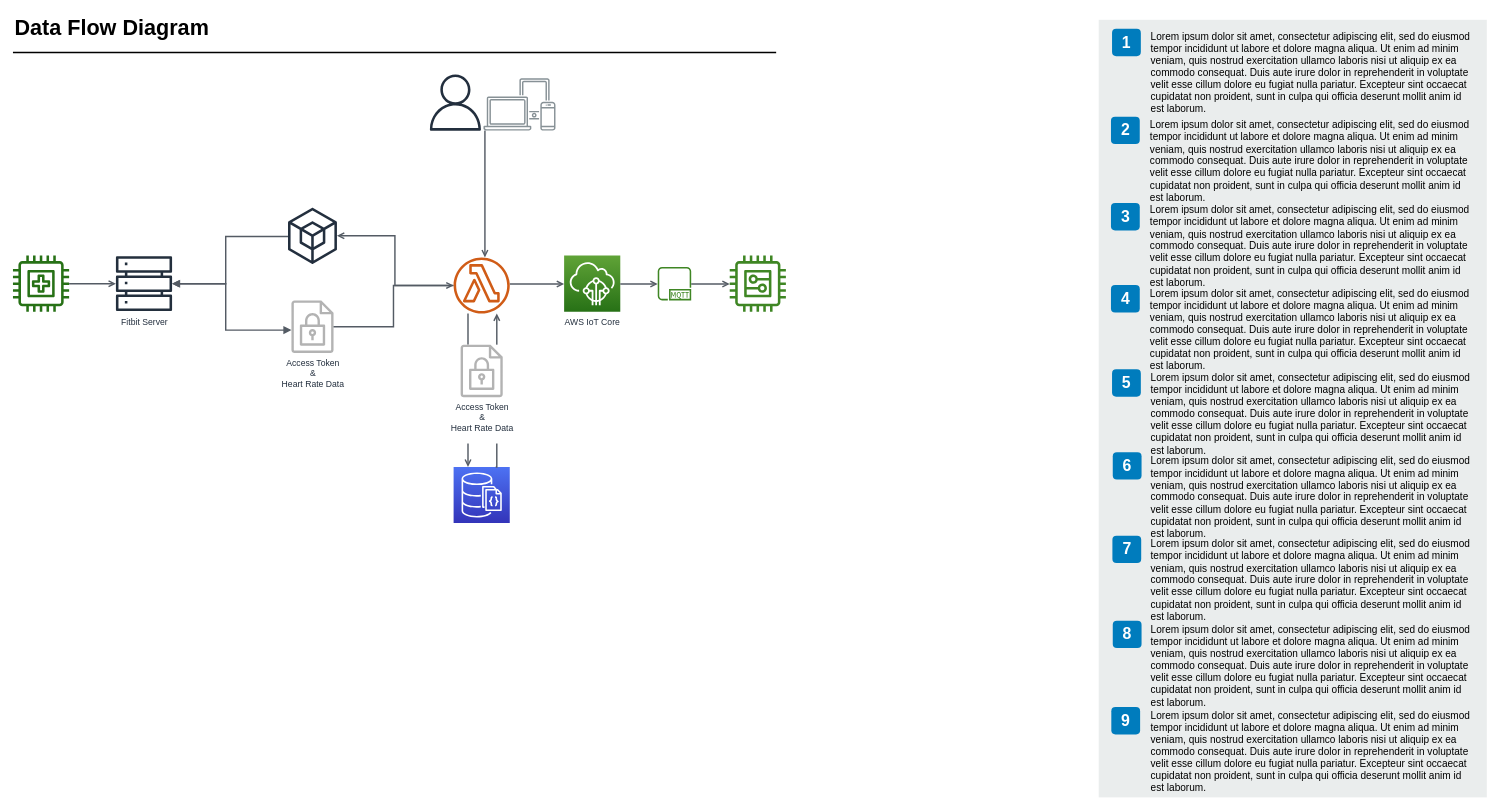
Some shapes in this 1499 by 810 pixel diagram are drawn without their labels. The shapes that lost their labels are listed below. From the top down, each one's centre as x and y in pixels, then its label:
pixel 455 102: User
pixel 519 104: Login
pixel 312 235: Fitbit API
pixel 41 283: Wearables Device
pixel 757 283: Raspberry Pi
pixel 481 494: MongoDB
